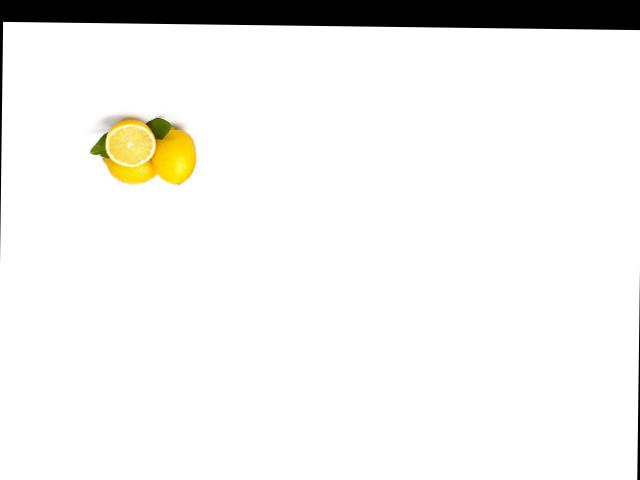lemon: (98, 151, 154, 187)
